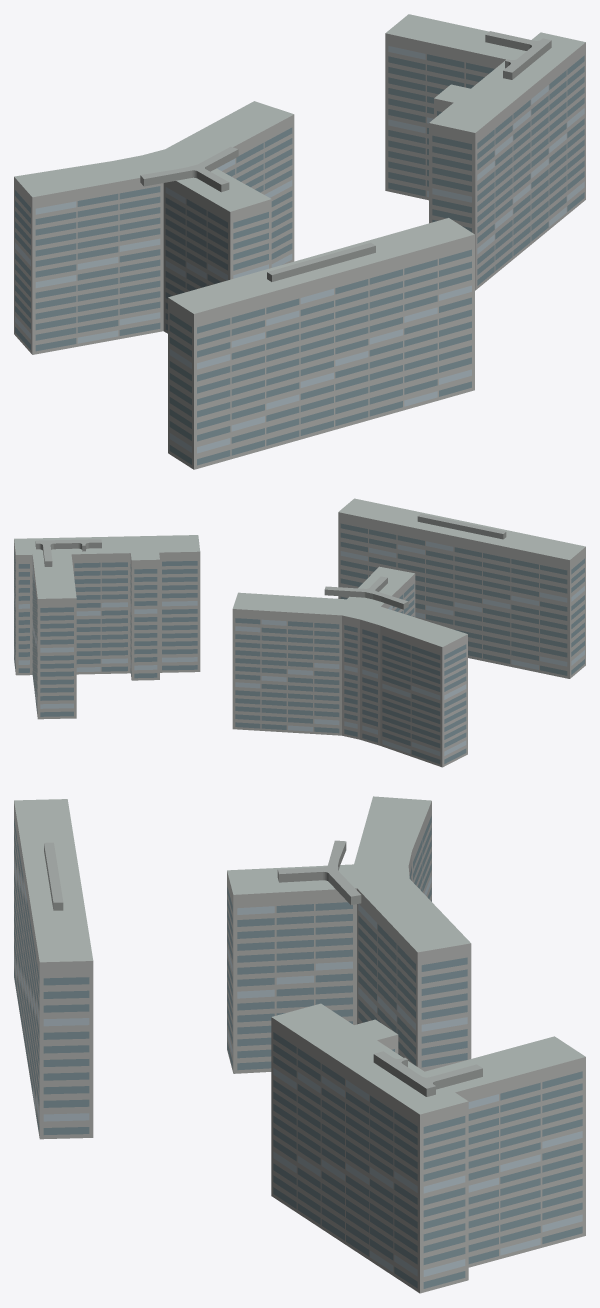
The model's file is apt-a13309301.glb.
3 renders of one model, top to bottom at view 1: azimuth 30°, elevation 25°; view 2: azimuth 150°, elevation 25°; view 3: azimuth 270°, elevation 25°, orthographic. The views are drawn at different scales.
Parts seen in each view (by area): view 1: apt-a13309301; view 2: apt-a13309301; view 3: apt-a13309301.
Boxes of the visible parts, bbox=[...] form: apt-a13309301: bbox=[14, 14, 585, 469]; apt-a13309301: bbox=[14, 498, 585, 767]; apt-a13309301: bbox=[14, 796, 585, 1293].
Bounding box in the file's own units: 153 × 42 × 116.
